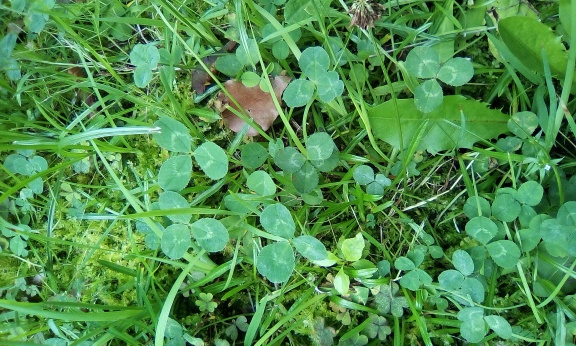4leaf: (273, 132, 339, 194), (393, 249, 432, 291)
